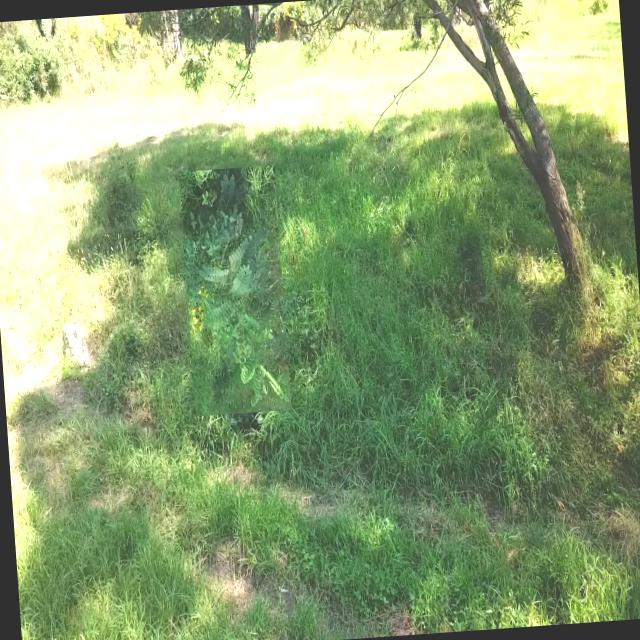Mysore-Thorn-Weed: (178, 165, 292, 416)
